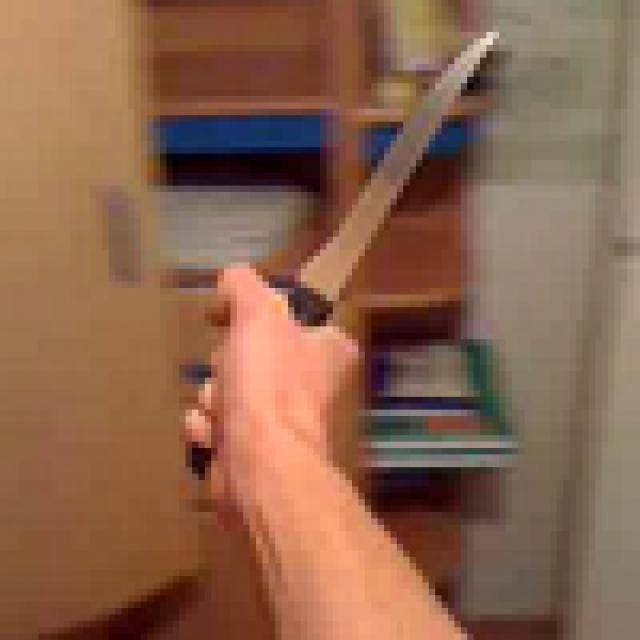knife: (192, 0, 518, 467)
